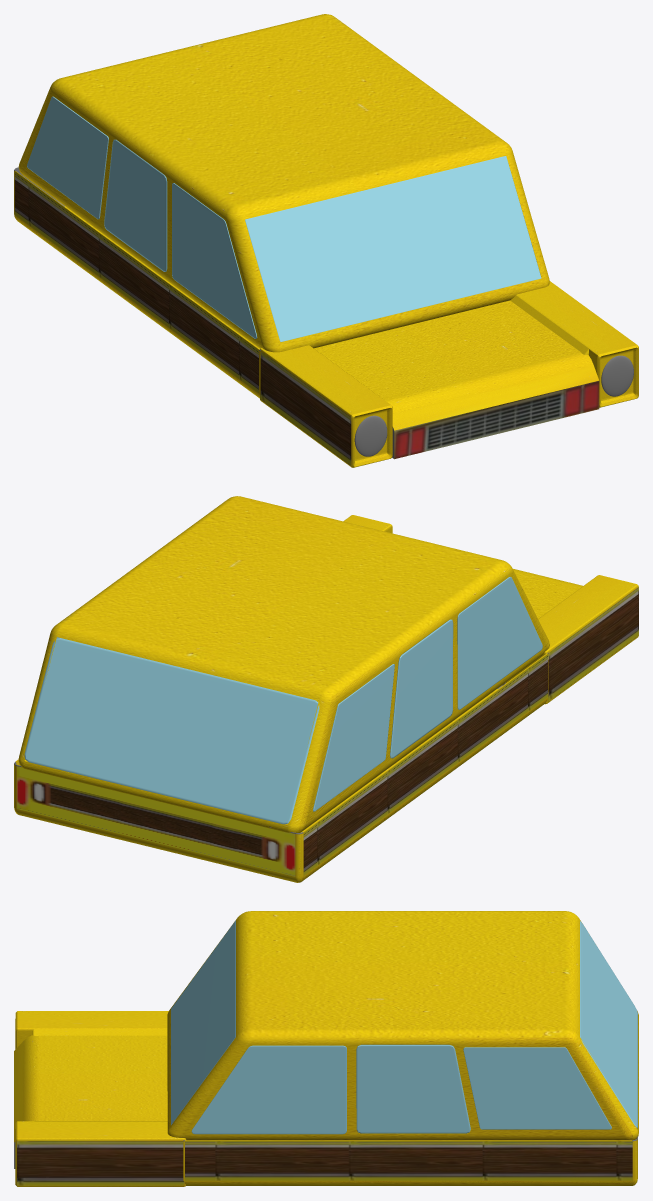
File: car.obj
3 renders of one model, top to bottom at view 1: azimuth 30°, elevation 25°; view 2: azimuth 150°, elevation 25°; view 3: azimuth 270°, elevation 25°, orthographic. The views are drawn at different scales.
Parts seen in each view (by area): view 1: pasted__polySurface2 group7, pCube10, pCube1, pCube8, group pasted__pCube2, polySurface3 pasted__pCube4 group8, polySurface7 pasted__pCube6 group10, polySurface12 pasted__pCube5 group9, pCube2, pasted__pCube6 group10 polySurface11, pasted__pCube5 group9 polySurface5, pSphere1 (+2 smaller); view 2: pasted__polySurface2 group7, pCube7, pCube8, group pasted__pCube2, polySurface3 pasted__pCube4 group8, polySurface7 pasted__pCube6 group10, polySurface12 pasted__pCube5 group9, pasted__pCube5 group9 polySurface5, pCube1, pasted__pCube6 group10 polySurface11; view 3: pasted__polySurface2 group7, pCube8, pCube1, pasted__pCube4 group8 polySurface8, pCube2, pasted__pCube6 group10 polySurface10, pasted__pCube5 group9 polySurface4, pCube10, pCube7, pasted__pCube4 group8 polySurface2, pasted__pCube6 group10 polySurface6, pasted__pCube5 group9 polySurface9 (+2 smaller).
Boxes of the visible parts, x1,y1,x2,y2 form: pasted__polySurface2 group7: (18, 14, 549, 352); pCube10: (245, 156, 541, 341); pCube1: (314, 300, 599, 459); pCube8: (14, 167, 260, 397); group pasted__pCube2: (259, 345, 392, 467); polySurface3 pasted__pCube4 group8: (172, 183, 257, 338); polySurface7 pasted__pCube6 group10: (27, 96, 107, 218); polySurface12 pasted__pCube5 group9: (107, 140, 167, 271); pCube2: (516, 281, 638, 407); pasted__pCube6 group10 polySurface11: (29, 98, 108, 219); pasted__pCube5 group9 polySurface5: (104, 139, 163, 271); pSphere1: (601, 355, 633, 396); pasted__polySurface2 group7: (18, 496, 549, 832); pCube7: (24, 638, 319, 824); pCube8: (14, 652, 548, 882); group pasted__pCube2: (506, 575, 638, 704); polySurface3 pasted__pCube4 group8: (457, 577, 542, 709); polySurface7 pasted__pCube6 group10: (313, 664, 393, 811); polySurface12 pasted__pCube5 group9: (393, 619, 453, 754); pasted__pCube5 group9 polySurface5: (390, 620, 450, 758); pCube1: (502, 569, 582, 685); pasted__pCube6 group10 polySurface11: (316, 664, 394, 807); pasted__polySurface2 group7: (167, 911, 638, 1140); pCube8: (183, 1128, 637, 1185); pCube1: (14, 1035, 167, 1168); pasted__pCube4 group8 polySurface8: (191, 1045, 343, 1134); pCube2: (15, 1121, 186, 1186); pasted__pCube6 group10 polySurface10: (463, 1047, 609, 1129); pasted__pCube5 group9 polySurface4: (361, 1044, 470, 1133); pCube10: (171, 920, 235, 1124); pCube7: (580, 921, 637, 1127); pasted__pCube4 group8 polySurface2: (195, 1045, 346, 1134); pasted__pCube6 group10 polySurface6: (466, 1047, 611, 1129); pasted__pCube5 group9 polySurface9: (356, 1044, 465, 1133).
Size of the model in its own units: 5.19 by 2.87 by 10.62.
Materials: 14 (13 with a texture image).
